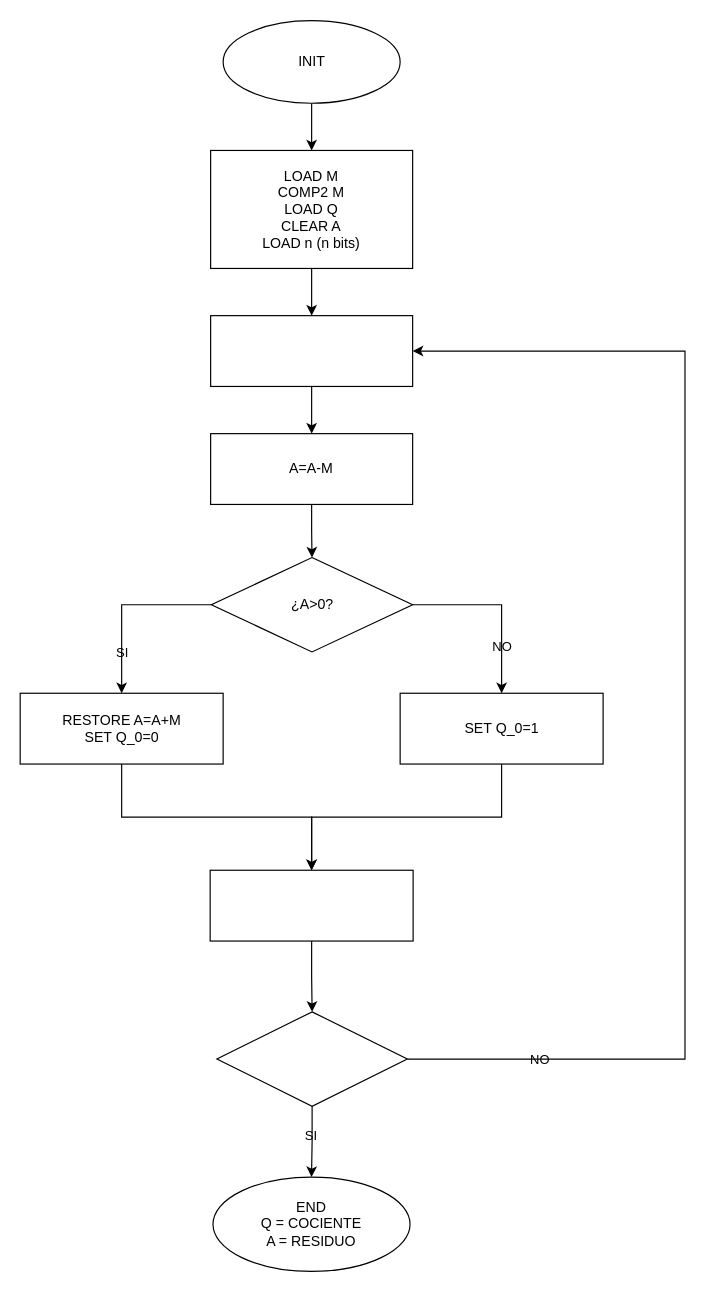
The diagram is 716 pixels wide and 1292 high, and some of its shapes have lost their labels. The centre of each missing label's shape, as x and y in pixels:
DEC n (n=n-1): the point at 311,905
n==0?: the point at 311,1058
SHL (A:Q): the point at 311,350
